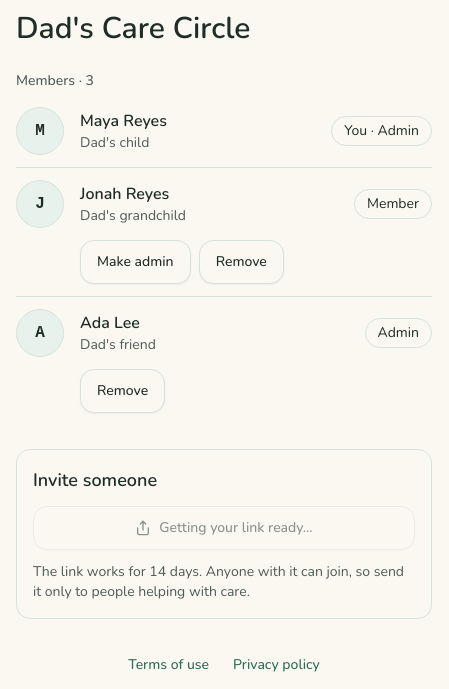
Scenario: a failed removal says why
The width and height of the screenshot is (449, 689).
Click the button with aria-label "Remove Jonah" at (241, 262), box x1=199 y1=240 x2=284 y2=284
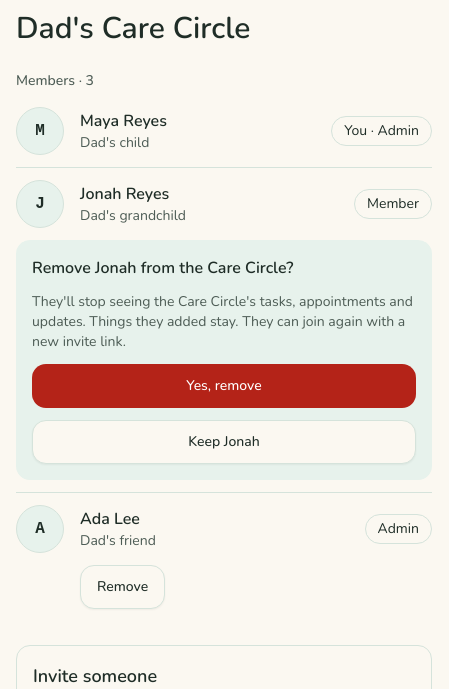
Click the button "Yes, remove" at (224, 386), box x1=32 y1=364 x2=416 y2=408
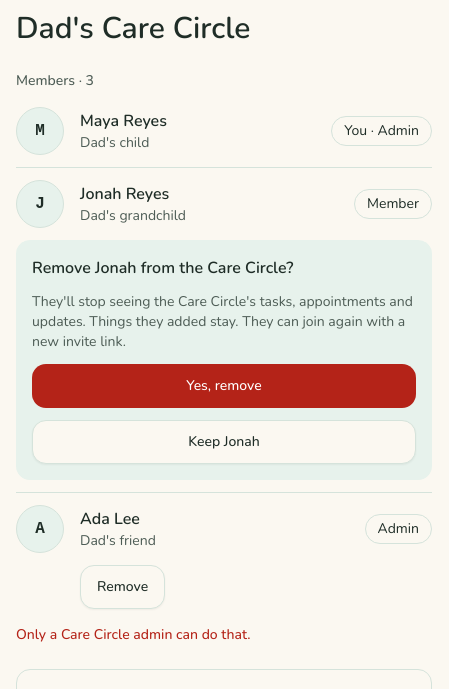
Expected: the message reads "Only a Care Circle admin can do that.", x1=16 y1=625 x2=250 y2=644
